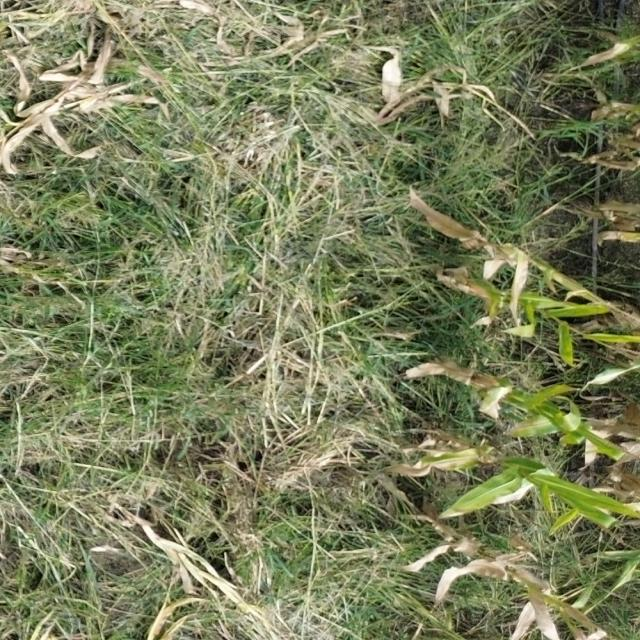northern-leaf-blight: (415, 444, 492, 486), (474, 378, 523, 427)
